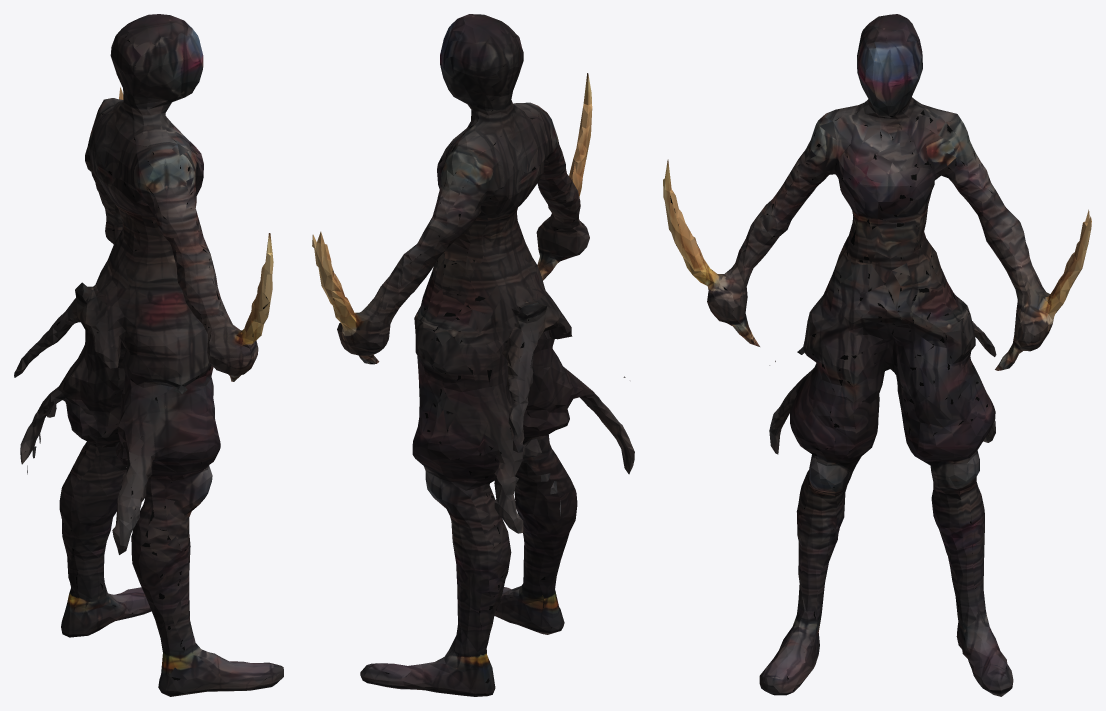
File: monster_ninja_3.glb
3 views of the same model, side by side, from view 1: azimuth 30°, elevation 25°; view 2: azimuth 150°, elevation 25°; view 3: azimuth 270°, elevation 25° (orthographic).
Visible parts, largest first — view 1: zzzz11; view 2: zzzz11; view 3: zzzz11.
Boxes of the visible parts, box(x1,y1,x2,y2) form: zzzz11: box(14, 14, 283, 696); zzzz11: box(312, 14, 634, 696); zzzz11: box(663, 14, 1091, 696).
Size of the model in its own units: 0.5763 by 1.97 by 1.19.
Materials: 1 (1 with a texture image).
